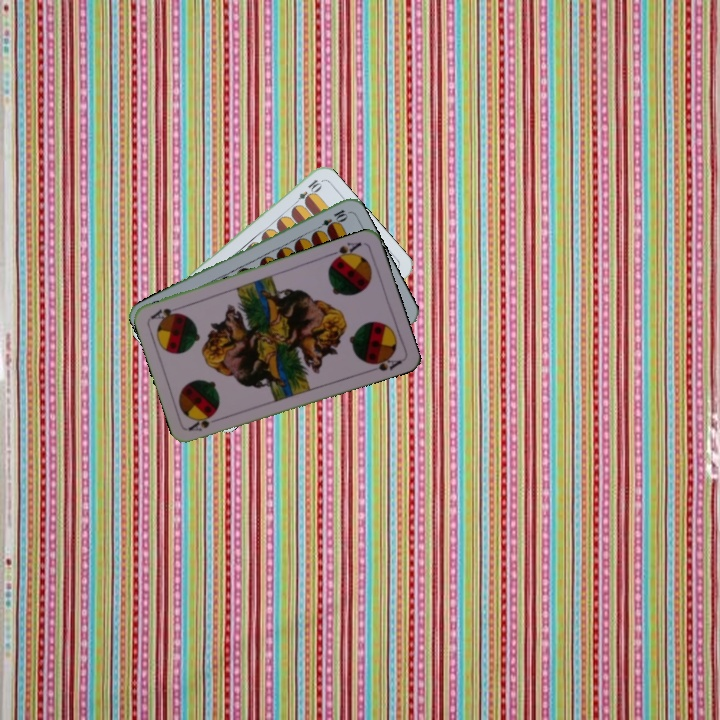E10: (289, 175, 324, 209), (312, 205, 350, 234)
SA: (326, 238, 364, 265), (185, 411, 225, 434)
